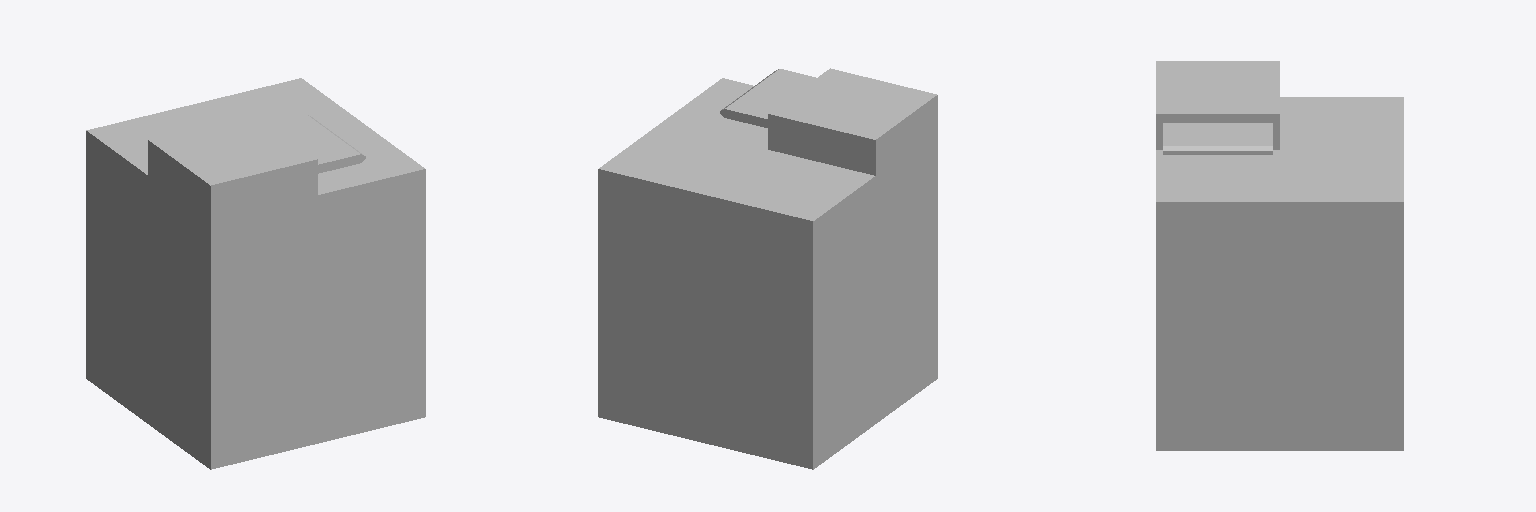
The model's file is square.obj.
3 views of the same model, side by side, from view 1: azimuth 30°, elevation 25°; view 2: azimuth 150°, elevation 25°; view 3: azimuth 270°, elevation 25° (orthographic).
Parts seen in each view (by area): view 1: Cube; view 2: Cube; view 3: Cube.
Part boxes in pixels (left/top/right/bottom): Cube: left=86, top=78, right=425, bottom=469; Cube: left=598, top=68, right=937, bottom=469; Cube: left=1156, top=61, right=1403, bottom=450.
Size of the model in its own units: 2 by 2.53 by 2.